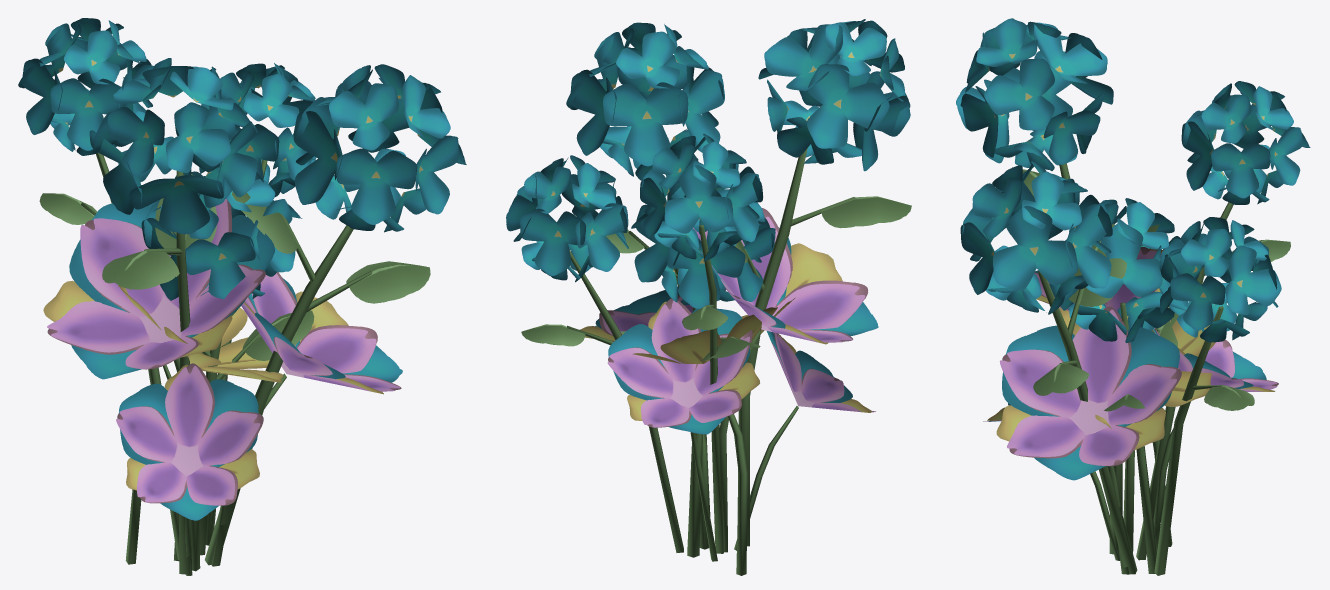
Rendered from flowers.glb.
3 views of the same model, side by side, from view 1: azimuth 30°, elevation 25°; view 2: azimuth 150°, elevation 25°; view 3: azimuth 270°, elevation 25° (orthographic). The views are drawn at different scales.
Parts seen in each view (by area): view 1: Flower_1_Clump, Flower_5_Clump, Flower_3_Clump, Flower_1, Flower_2_Clump, Flower_2, Flower_4_Clump; view 2: Flower_1_Clump, Flower_5_Clump, Flower_1, Flower_3_Clump, Flower_2, Flower_2_Clump, Flower_4_Clump; view 3: Flower_1_Clump, Flower_5_Clump, Flower_1, Flower_3_Clump, Flower_2_Clump, Flower_2, Flower_4_Clump.
Boxes of the visible parts, box(x1,y1,x2,y2) form: Flower_1_Clump: box(18, 18, 466, 574); Flower_5_Clump: box(47, 198, 400, 575); Flower_3_Clump: box(69, 200, 402, 520); Flower_1: box(141, 163, 314, 555); Flower_2_Clump: box(43, 280, 383, 490); Flower_2: box(118, 285, 283, 564); Flower_4_Clump: box(47, 200, 401, 505); Flower_1_Clump: box(506, 19, 911, 553); Flower_5_Clump: box(602, 216, 874, 561); Flower_1: box(620, 182, 775, 557); Flower_3_Clump: box(595, 228, 878, 434); Flower_2: box(632, 297, 795, 575); Flower_2_Clump: box(580, 243, 871, 420); Flower_4_Clump: box(599, 208, 875, 427); Flower_1_Clump: box(956, 18, 1310, 575); Flower_5_Clump: box(984, 249, 1277, 574); Flower_1: box(1061, 198, 1188, 573); Flower_3_Clump: box(989, 270, 1266, 480); Flower_2_Clump: box(987, 248, 1275, 450); Flower_2: box(1059, 288, 1215, 546); Flower_4_Clump: box(983, 247, 1278, 466).
Bounding box in the file's own units: 0.7018 × 1 × 0.6483.
Materials: 1 (1 with a texture image).
